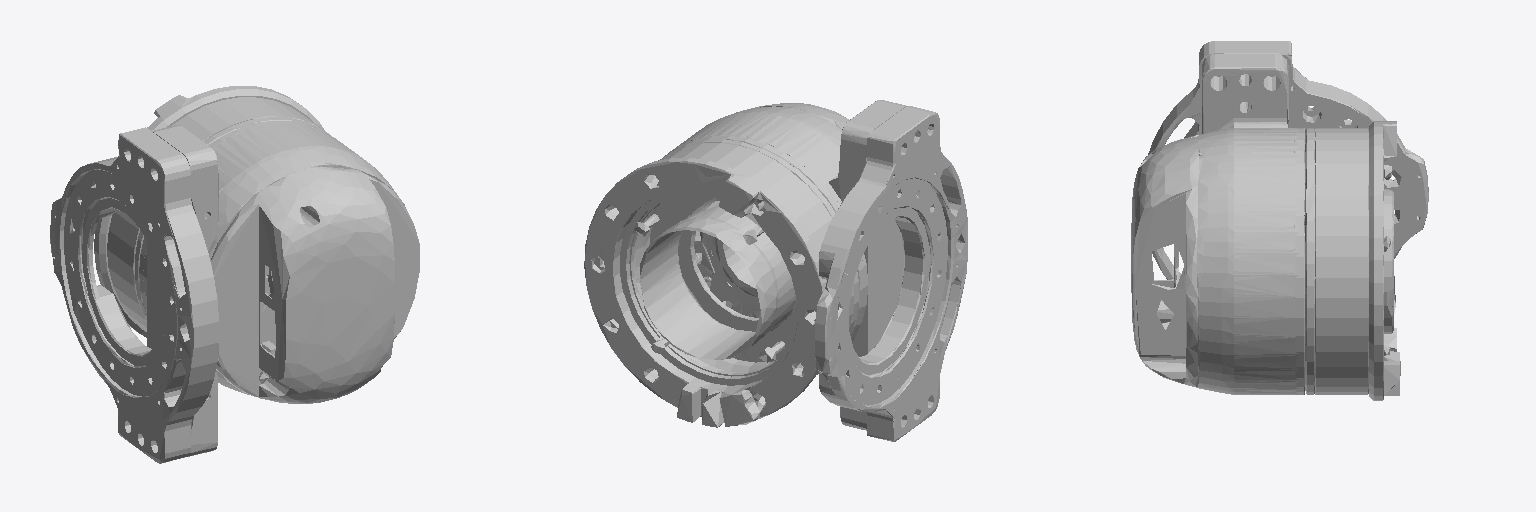
Rendered from left_thigh_roll_link.obj.
3 views of the same model, side by side, from view 1: azimuth 30°, elevation 25°; view 2: azimuth 150°, elevation 25°; view 3: azimuth 270°, elevation 25° (orthographic).
Parts seen in each view (by area): view 1: left_thigh_roll_link; view 2: left_thigh_roll_link; view 3: left_thigh_roll_link.
Part boxes in pixels (x1,y1,x2,y2): left_thigh_roll_link: (50, 86, 419, 463); left_thigh_roll_link: (584, 100, 967, 441); left_thigh_roll_link: (1131, 41, 1428, 400).
Bounding box in the file's own units: 0.0915 × 0.1001 × 0.0892.